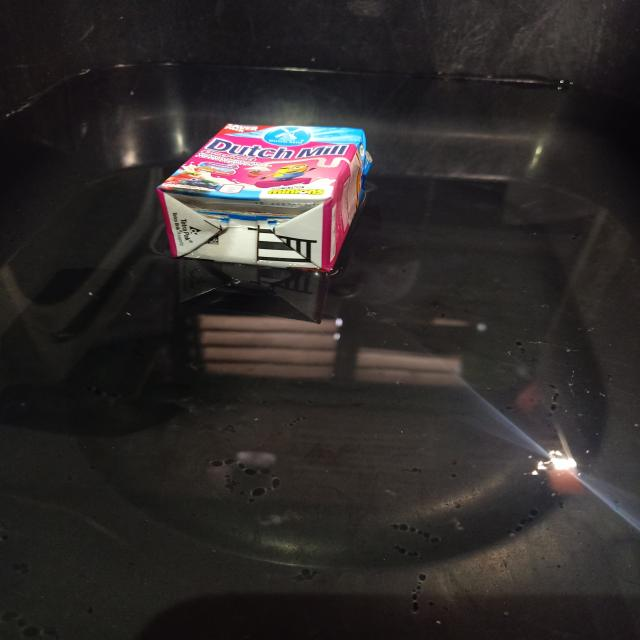Cardboard Box: (158, 124, 370, 271)
